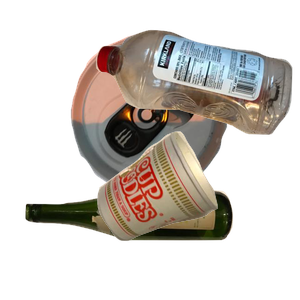glass: (23, 186, 249, 300)
metal: (68, 31, 288, 211)
plastic: (93, 27, 300, 154)
trash: (95, 129, 300, 300)
